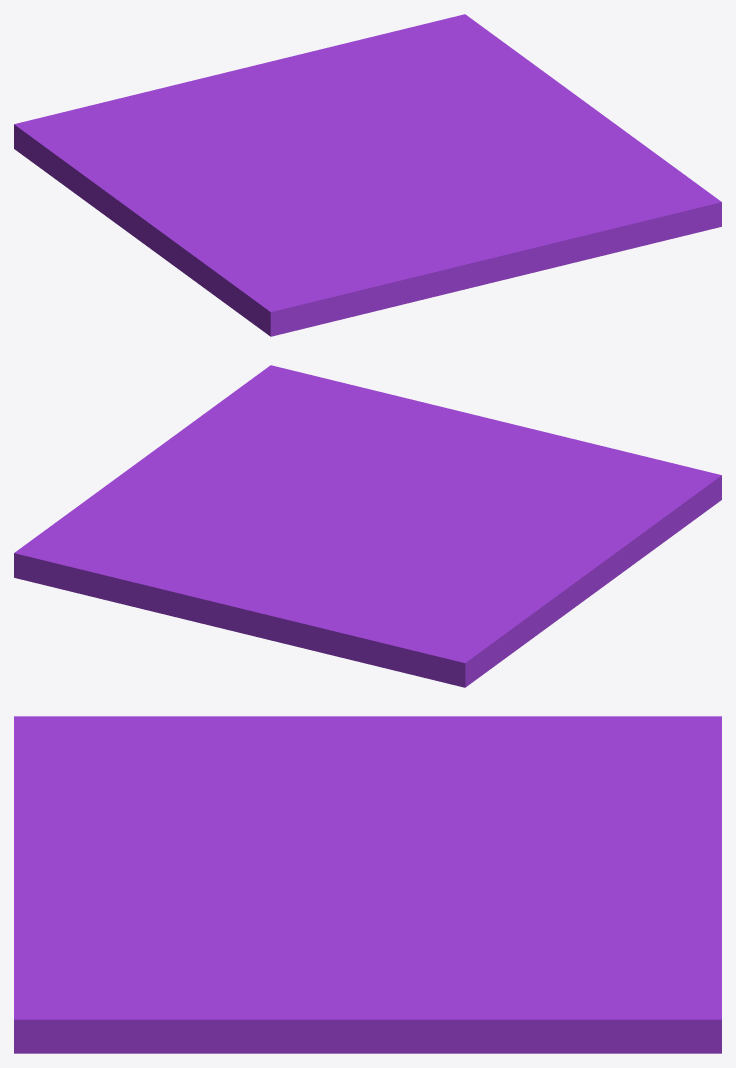
Rendered from Window_170_chunks.fbx.
3 renders of one model, top to bottom at view 1: azimuth 30°, elevation 25°; view 2: azimuth 150°, elevation 25°; view 3: azimuth 270°, elevation 25°, orthographic. The views are drawn at different scales.
Parts seen in each view (by area): view 1: Window_170_18, Window_170_11, Window_170_6, Window_170_35, Window_170_8, Window_170_5, Window_170_31, Window_170_28, Window_170_13, Window_170_7, Window_170_33, Window_170_17 (+20 smaller); view 2: Window_170_6, Window_170_18, Window_170_35, Window_170_20, Window_170_31, Window_170_5, Window_170_23, Window_170_11, Window_170_28, Window_170_13, Window_170_8, Window_170_30 (+19 smaller); view 3: Window_170_11, Window_170_6, Window_170_13, Window_170_5, Window_170_18, Window_170_35, Window_170_30, Window_170_28, Window_170_8, Window_170_29, Window_170_7, Window_170_33 (+21 smaller).
Part boxes in pixels (x1=…): Window_170_18: x1=215, y1=250, x2=385, y2=336; Window_170_11: x1=508, y1=171, x2=721, y2=252; Window_170_6: x1=105, y1=74, x2=315, y2=142; Window_170_35: x1=146, y1=195, x2=316, y2=289; Window_170_8: x1=402, y1=203, x2=526, y2=303; Window_170_5: x1=298, y1=107, x2=513, y2=162; Window_170_31: x1=14, y1=114, x2=126, y2=209; Window_170_28: x1=397, y1=75, x2=572, y2=133; Window_170_13: x1=459, y1=154, x2=679, y2=191; Window_170_7: x1=179, y1=129, x2=364, y2=168; Window_170_33: x1=106, y1=147, x2=203, y2=223; Window_170_17: x1=334, y1=206, x2=424, y2=309; Window_170_6: x1=260, y1=550, x2=419, y2=667; Window_170_18: x1=563, y1=447, x2=721, y2=538; Window_170_35: x1=479, y1=511, x2=671, y2=590; Window_170_20: x1=132, y1=563, x2=292, y2=640; Window_170_31: x1=424, y1=595, x2=558, y2=687; Window_170_5: x1=239, y1=463, x2=362, y2=561; Window_170_23: x1=39, y1=531, x2=242, y2=606; Window_170_11: x1=229, y1=365, x2=401, y2=442; Window_170_28: x1=142, y1=454, x2=248, y2=542; Window_170_13: x1=205, y1=395, x2=350, y2=482; Window_170_8: x1=381, y1=422, x2=587, y2=465; Window_170_30: x1=14, y1=524, x2=172, y2=583; Window_170_11: x1=14, y1=910, x2=156, y2=1053; Window_170_6: x1=500, y1=777, x2=721, y2=865; Window_170_13: x1=121, y1=906, x2=313, y2=1053; Window_170_5: x1=281, y1=863, x2=539, y2=945; Window_170_18: x1=14, y1=716, x2=195, y2=793; Window_170_35: x1=153, y1=716, x2=346, y2=813; Window_170_30: x1=553, y1=946, x2=721, y2=1053; Window_170_28: x1=309, y1=921, x2=582, y2=991; Window_170_8: x1=14, y1=806, x2=170, y2=910; Window_170_29: x1=437, y1=975, x2=628, y2=1048; Window_170_7: x1=389, y1=781, x2=556, y2=870; Window_170_33: x1=351, y1=716, x2=569, y2=785.
Bounding box in the file's own units: 1165 × 60.81 × 1149.
